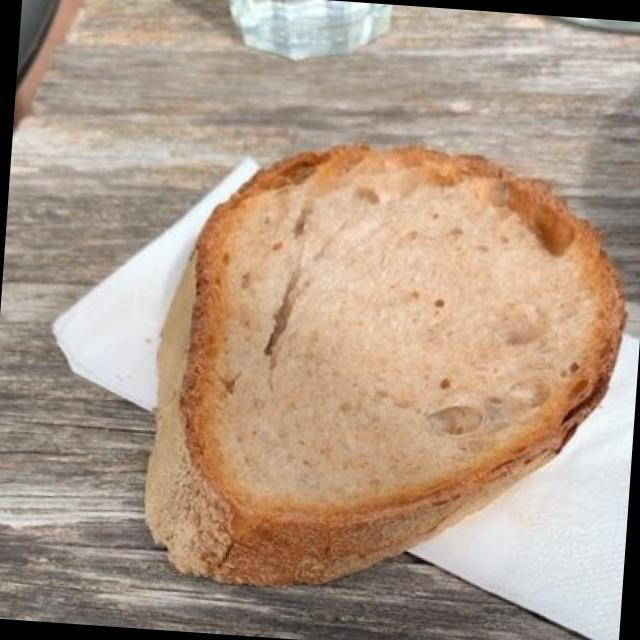Bread: (126, 106, 640, 617)
